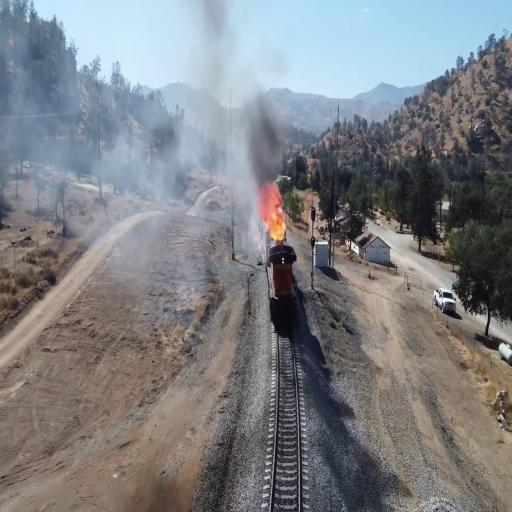fire: (256, 174, 292, 246)
smoke: (250, 109, 292, 186)
